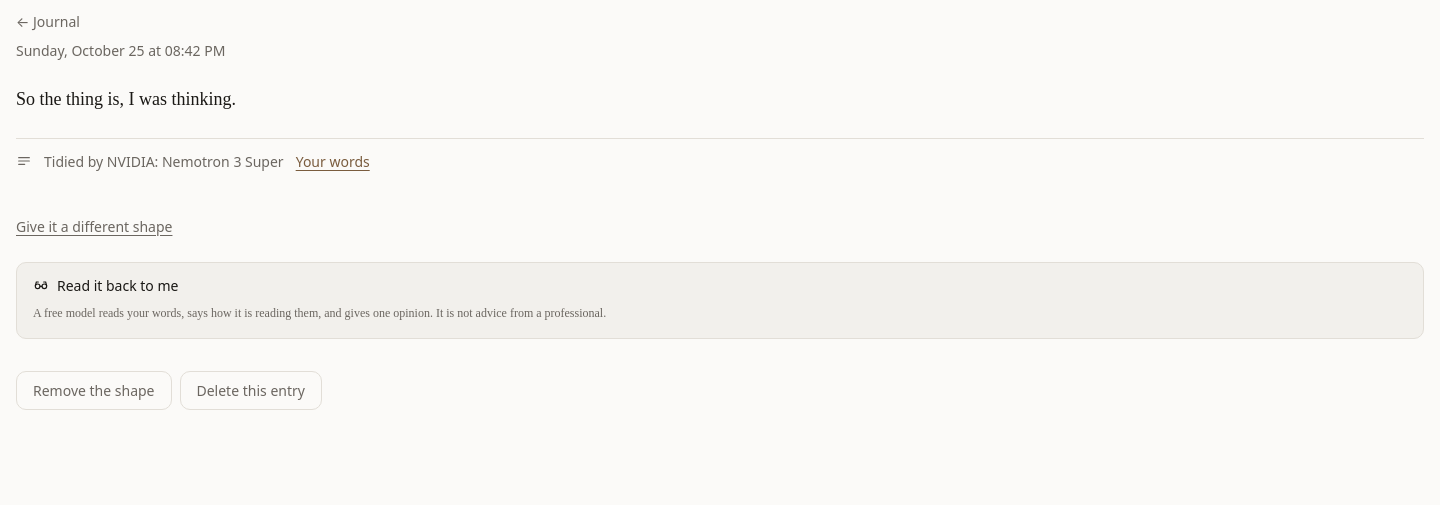
it: Entry › keeps the correction even when the model will not answer
Click the button "Your words": [333, 161] box [296,151,370,172]
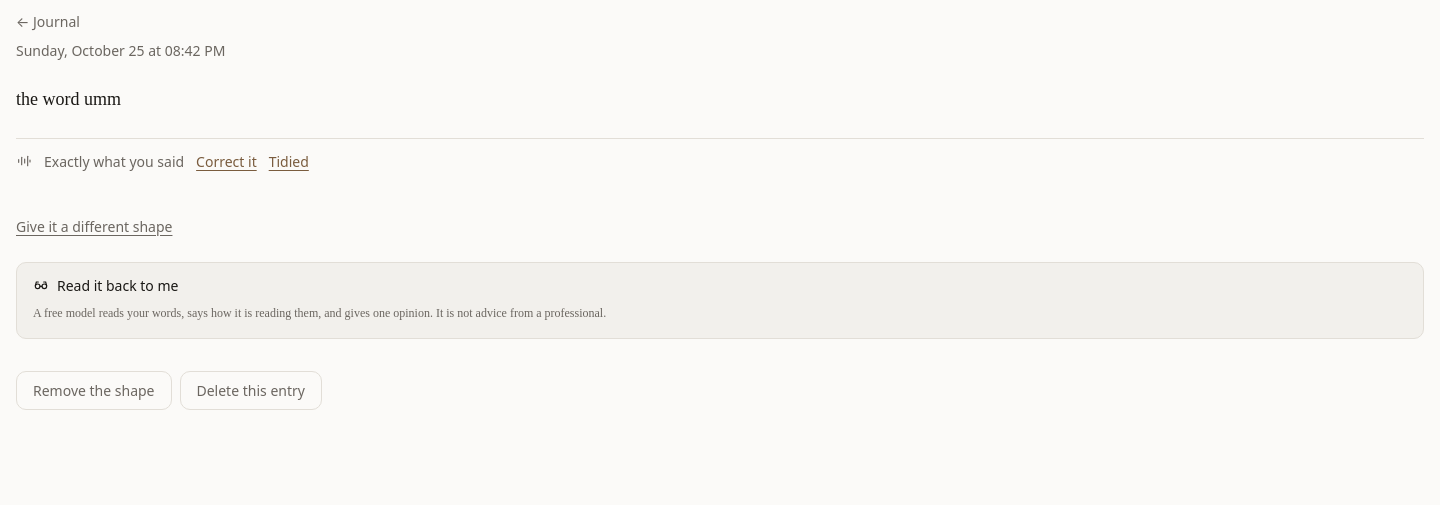
Click the button "Correct it": [226, 161] box [196,151,257,172]
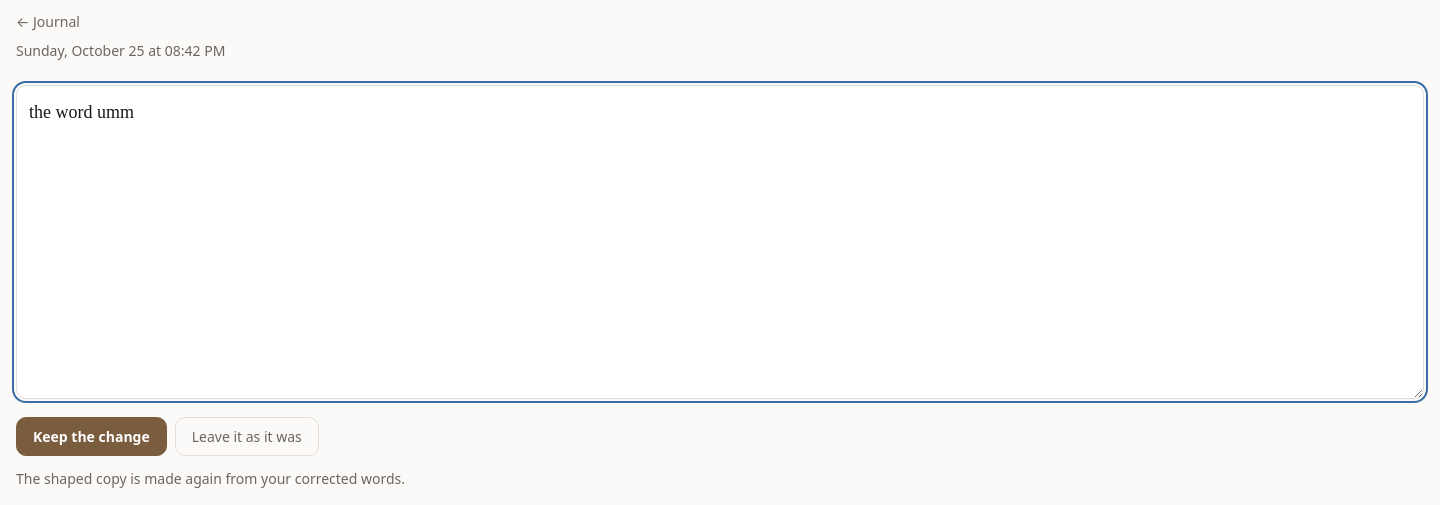
Replace the text in the text box named "Your words" with "the word Om": [720, 242] box [16,85,1424,399]
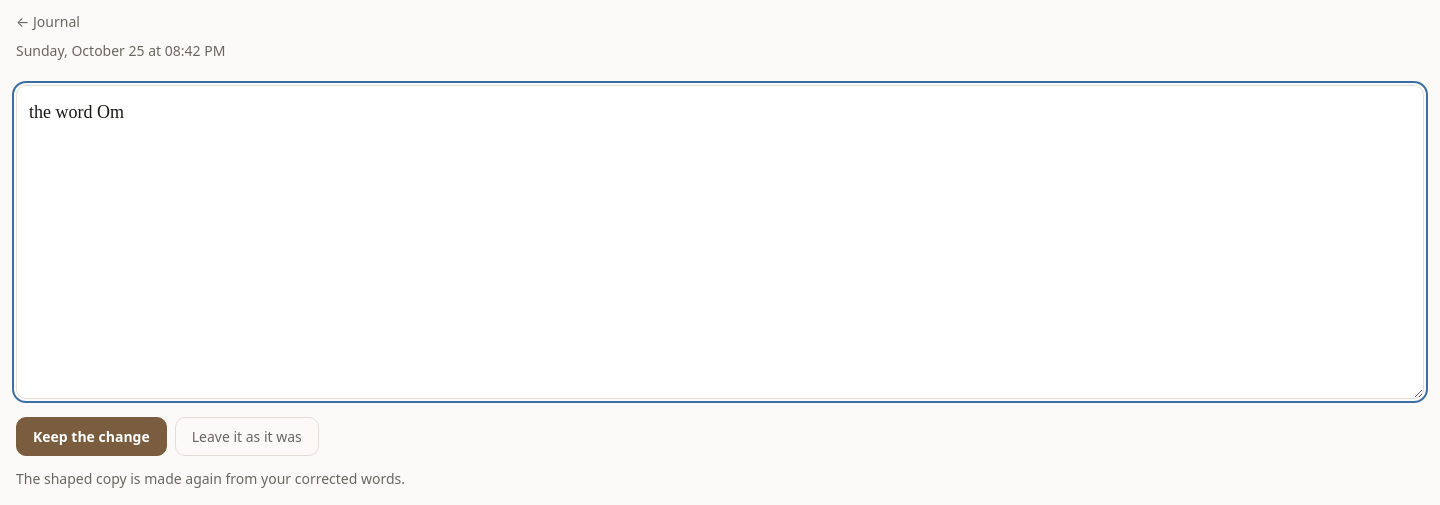
Click the button "Keep the change": [91, 436] box [16,417,167,456]
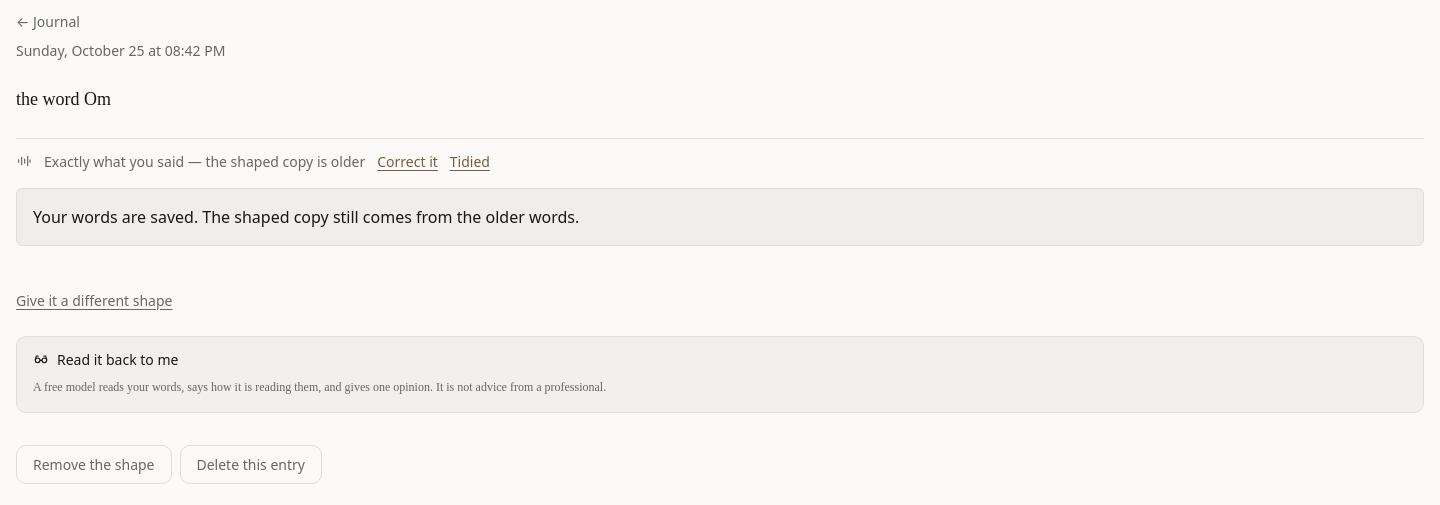
Now the text "the word Om" is shown, box [16,89,111,109]
Now the text "still comes from the older words" is shown, box [33,206,579,228]
